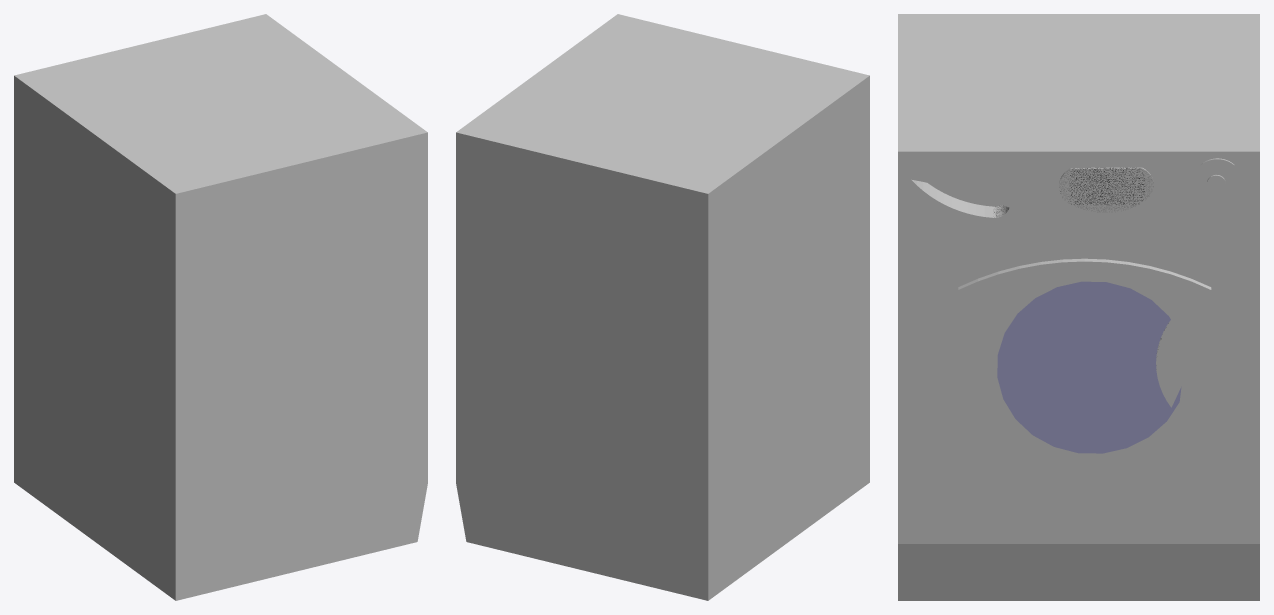
3 views of the same model, side by side, from view 1: azimuth 30°, elevation 25°; view 2: azimuth 150°, elevation 25°; view 3: azimuth 270°, elevation 25° (orthographic). The views are drawn at different scales.
Parts seen in each view (by area): view 1: mesh9_mesh9-geometry; view 2: mesh9_mesh9-geometry; view 3: mesh9_mesh9-geometry.
Part boxes in pixels (x1=…): mesh9_mesh9-geometry: x1=14, y1=14, x2=427, y2=600; mesh9_mesh9-geometry: x1=456, y1=14, x2=869, y2=600; mesh9_mesh9-geometry: x1=898, y1=14, x2=1259, y2=600.
Bounding box in the file's own units: 0.4729 × 0.7149 × 0.5151.
